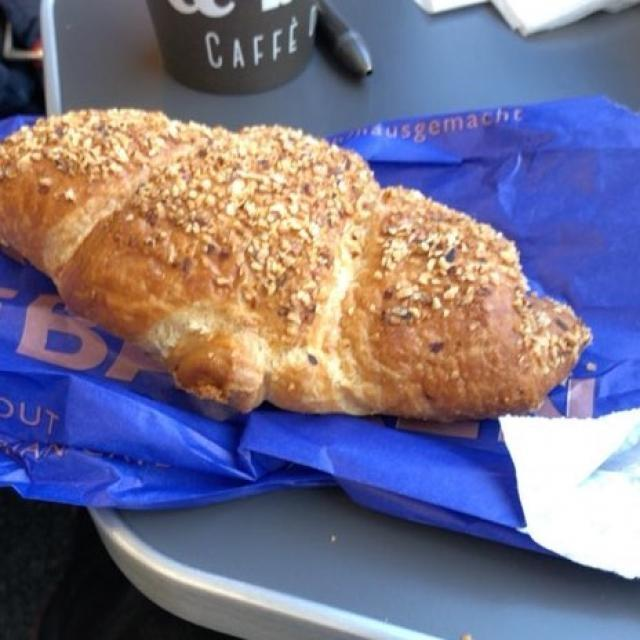croissant: (26, 103, 591, 419)
